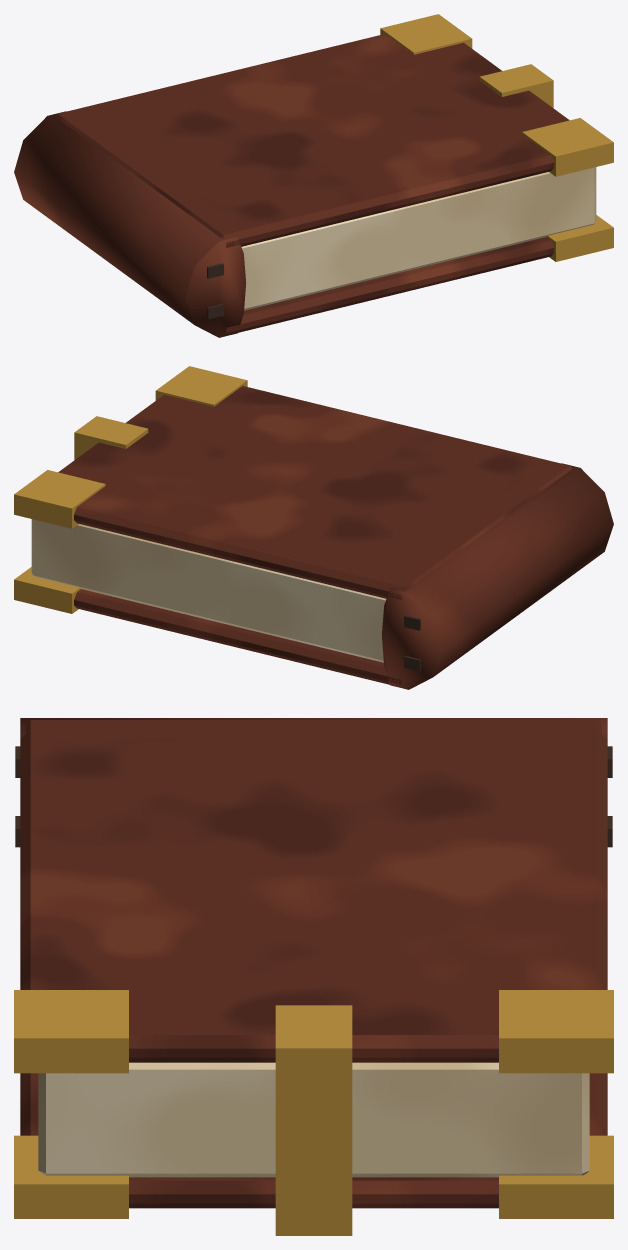
File: ledger_book.glb
3 views of the same model, one above another, from view 1: azimuth 30°, elevation 25°; view 2: azimuth 150°, elevation 25°; view 3: azimuth 270°, elevation 25° (orthographic). The views are drawn at different scales.
Visible parts, largest first — view 1: ledger_book_covers_spine, ledger_book_page_block, ledger_book_clasps; view 2: ledger_book_covers_spine, ledger_book_page_block, ledger_book_clasps; view 3: ledger_book_covers_spine, ledger_book_page_block, ledger_book_clasps.
Boxes of the visible parts, x1,y1,x2,y2 form: ledger_book_covers_spine: [14, 34, 569, 337]; ledger_book_page_block: [241, 167, 596, 310]; ledger_book_clasps: [380, 14, 613, 261]; ledger_book_covers_spine: [58, 386, 613, 689]; ledger_book_page_block: [31, 519, 386, 662]; ledger_book_clasps: [14, 366, 247, 613]; ledger_book_covers_spine: [15, 718, 612, 1208]; ledger_book_page_block: [38, 1062, 589, 1177]; ledger_book_clasps: [14, 990, 613, 1235].
Size of what is drawn, in the model's own units: 0.3425 by 0.081 by 0.235.
Materials: 4 (4 with a texture image).
